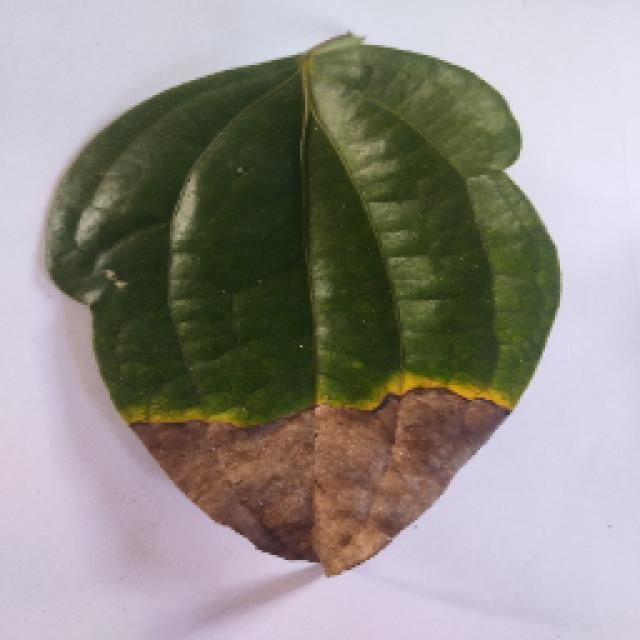footrot: (30, 40, 578, 640)
